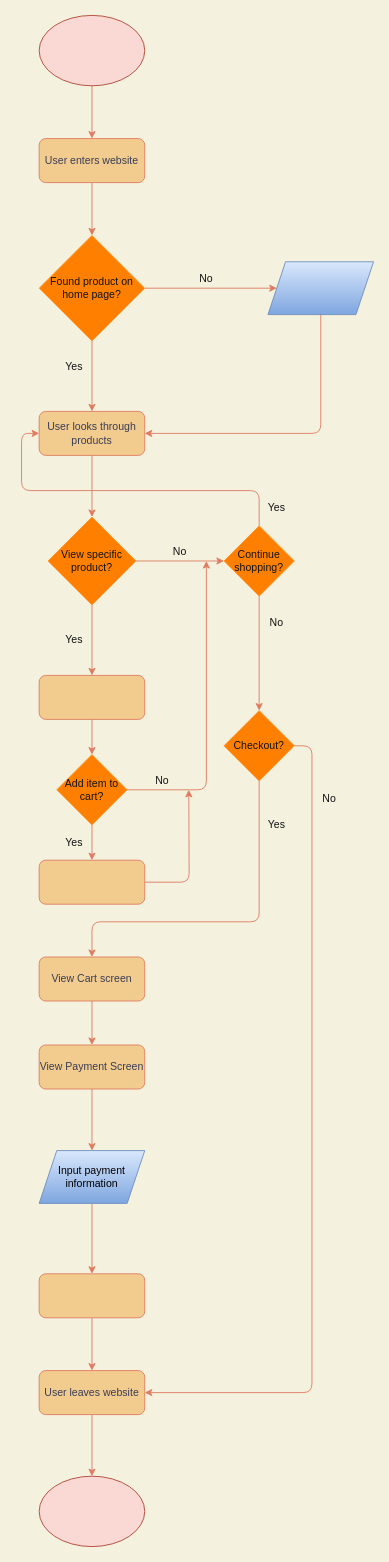
This 389x1562 diagram has some shape labels left out. Each missing label, with the centre of its shape:
"End" belongs at (x=91, y=1511).
"Order Confirmation Screen, user receives email" belongs at (x=91, y=1295).
"Product added to cart" belongs at (x=91, y=881).
"Product webpage opens" belongs at (x=91, y=697).
"Start" belongs at (x=91, y=50).
"User searches for product" belongs at (x=320, y=288).
